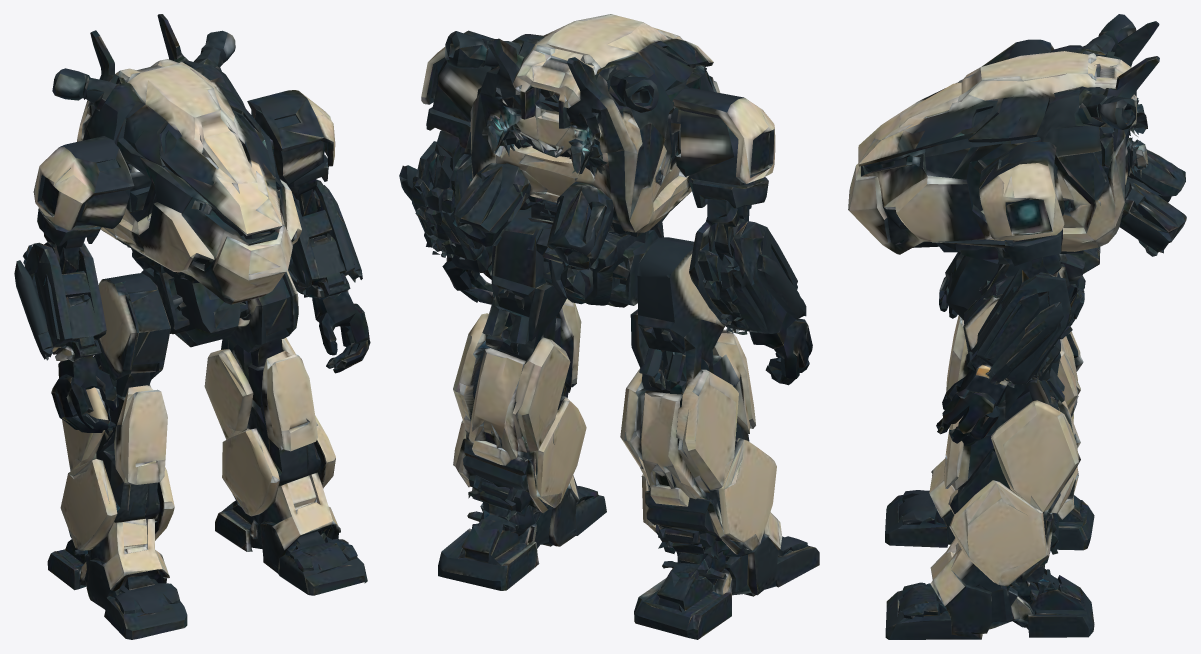
Rendered from warden.glb.
The picture shows the model from 3 angles, left to right: view 1: azimuth 30°, elevation 25°; view 2: azimuth 150°, elevation 25°; view 3: azimuth 270°, elevation 25°; orthographic projection. The views are drawn at different scales.
Size of the model in its own units: 1.28 by 1.9 by 1.08.
Materials: 1 (1 with a texture image).
